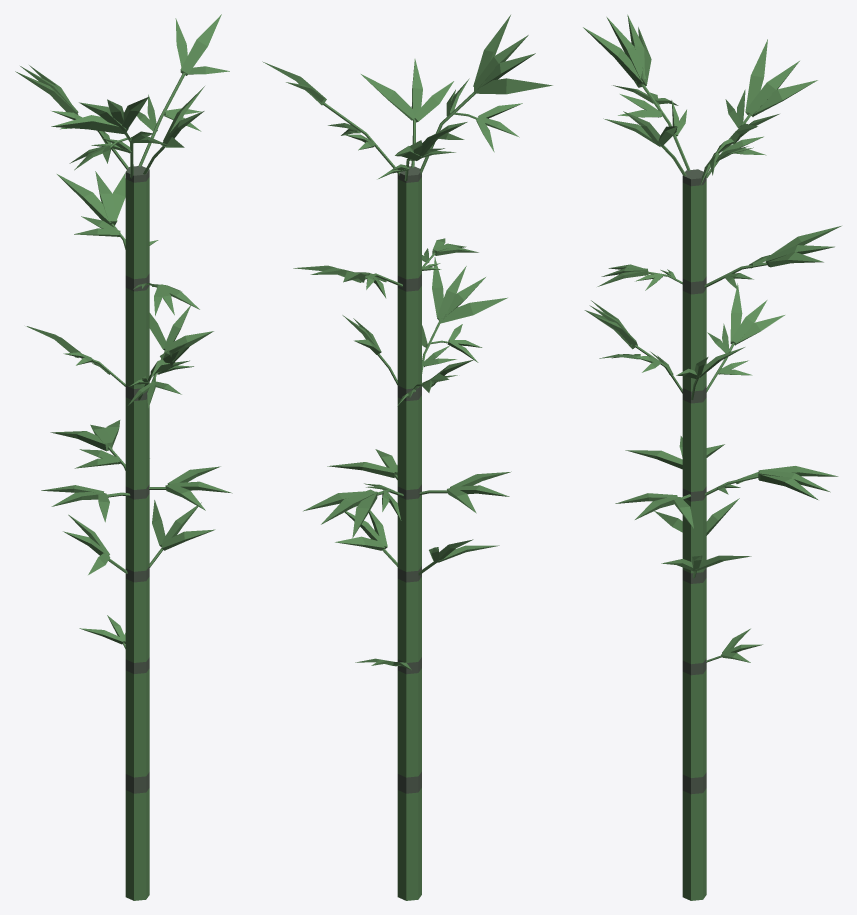
3 renders of one model, left to right at view 1: azimuth 30°, elevation 25°; view 2: azimuth 150°, elevation 25°; view 3: azimuth 270°, elevation 25°, orthographic.
Parts seen in each view (by area): view 1: bamboo3; view 2: bamboo3; view 3: bamboo3.
Boxes of the visible parts, box(x1,y1,x2,y2) form: bamboo3: box(15, 14, 232, 900); bamboo3: box(262, 15, 552, 900); bamboo3: box(583, 14, 841, 900).
Bounding box in the file's own units: 91.44 × 321 × 89.63.
